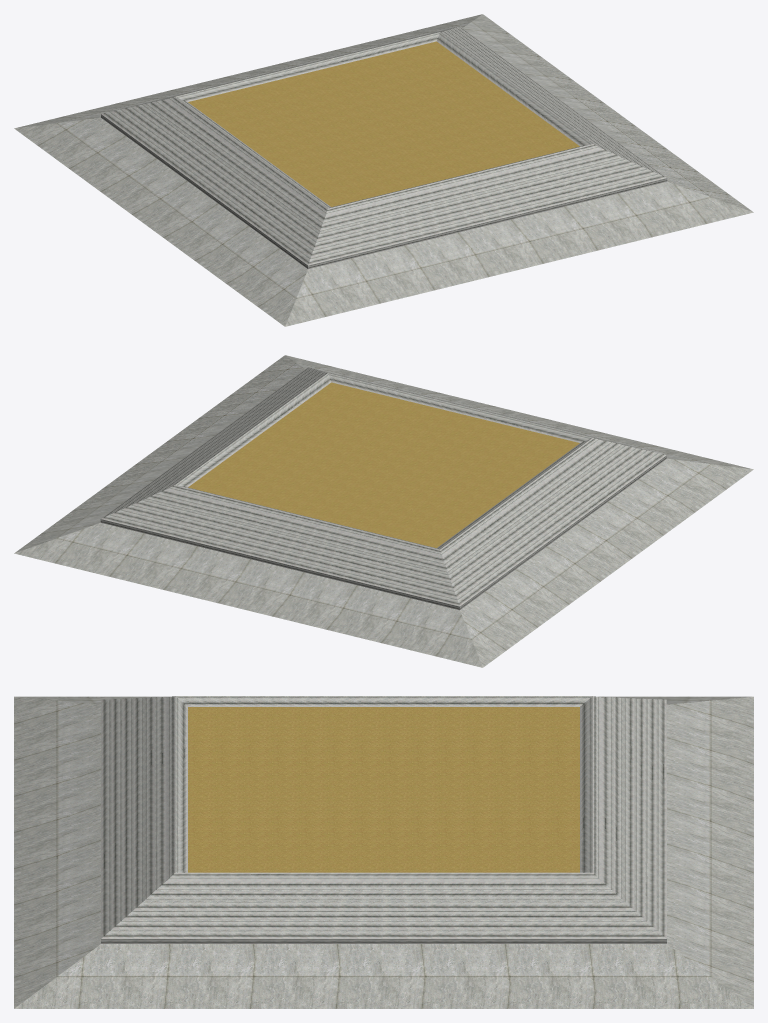
File: ply_corl_garden_lrg_s01_l1.fbx
3 views of the same model, one above another, from view 1: azimuth 30°, elevation 25°; view 2: azimuth 150°, elevation 25°; view 3: azimuth 270°, elevation 25° (orthographic). The views are drawn at different scales.
Visible parts, largest first — view 1: mesh_node; view 2: mesh_node; view 3: mesh_node.
Part boxes in pixels (x1,y1,x2,y2): mesh_node: (14, 14, 753, 326); mesh_node: (14, 355, 753, 667); mesh_node: (14, 696, 753, 1008).
Size of the model in its own units: 49 by 5.01 by 49.07.
